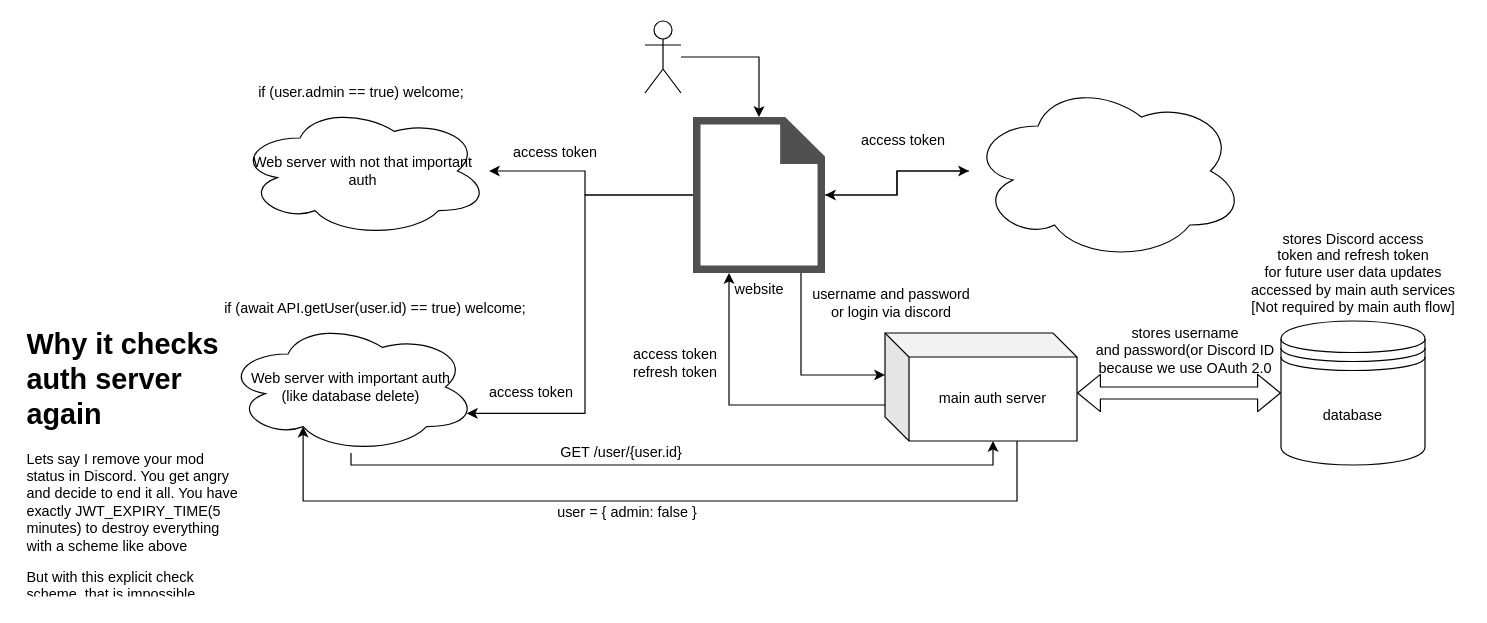
Image size: 1487x623. Some labels were removed from this diagram. Here are the shapes that lost their labels. From the top down, the centre of each, then its label:
the point at 662,56: User
the point at 1106,170: Website server Do not serve protected routes e.g /admin if token.admin is false
